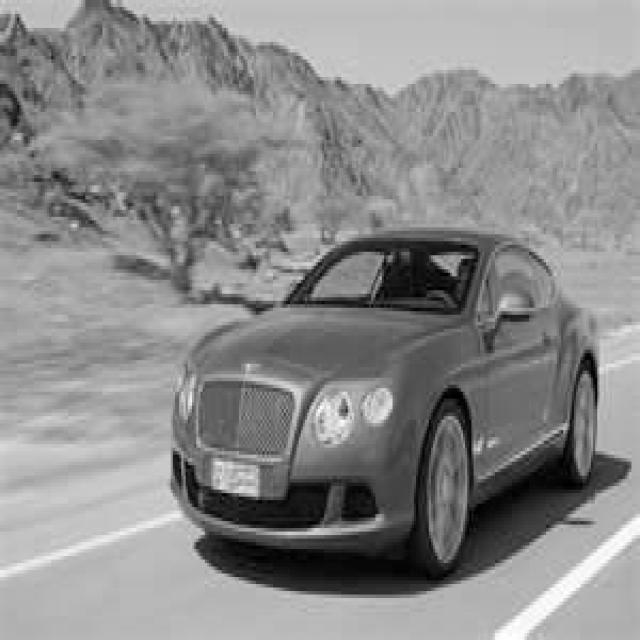car: (168, 224, 600, 577)
